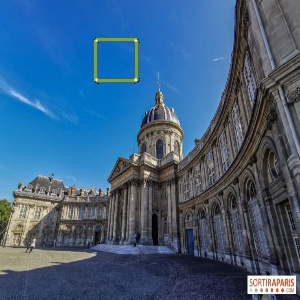square: (92, 36, 140, 84)
